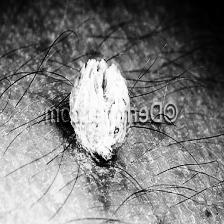Toxin: (64, 29, 132, 170)
